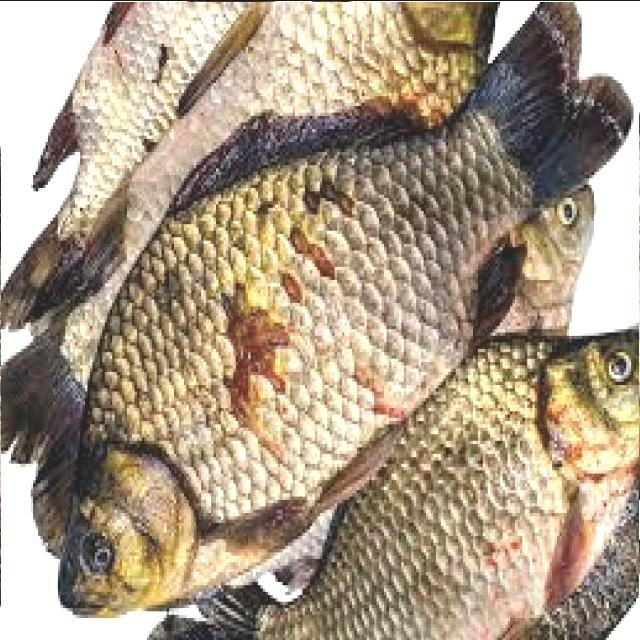EUS Disease: (0, 1, 639, 640), (210, 157, 480, 428), (7, 401, 253, 640), (509, 336, 600, 459), (533, 88, 613, 169)
